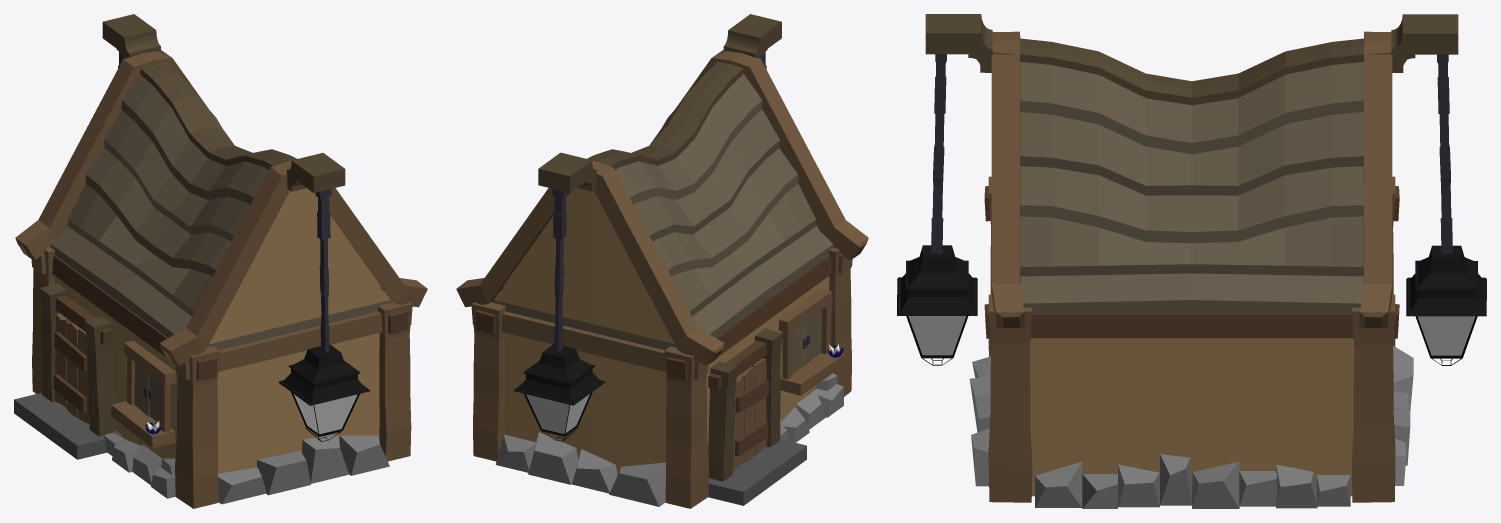
The model's file is casa3.0.fbx.
3 views of the same model, side by side, from view 1: azimuth 30°, elevation 25°; view 2: azimuth 150°, elevation 25°; view 3: azimuth 270°, elevation 25° (orthographic). The views are drawn at different scales.
Visible parts, largest first — view 1: casa.002, pedras.002, negocinho feio.002, madeira porta.002, janela.006, porta.002, negocinho feio.025, porta.010, negocinho feio.024; view 2: casa.002, pedras.002, negocinho feio.002, janela.006, madeira porta.002, porta.002, negocinho feio.025, porta.010, negocinho feio.024; view 3: casa.002, pedras.002, negocinho feio.002, negocinho feio.025, negocinho feio.024.
Part boxes in pixels (x1,y1,x2,y2): casa.002: [15, 50, 427, 508]; pedras.002: [104, 432, 389, 504]; negocinho feio.002: [102, 14, 345, 352]; madeira porta.002: [40, 283, 114, 436]; janela.006: [111, 340, 176, 447]; porta.002: [14, 295, 121, 459]; negocinho feio.025: [278, 344, 370, 405]; porta.010: [53, 313, 89, 423]; negocinho feio.024: [294, 394, 357, 434]; casa.002: [456, 50, 868, 508]; pedras.002: [495, 373, 843, 506]; negocinho feio.002: [538, 14, 781, 352]; janela.006: [778, 288, 845, 395]; madeira porta.002: [708, 328, 782, 481]; porta.002: [708, 340, 806, 505]; negocinho feio.025: [513, 344, 605, 405]; porta.010: [732, 358, 768, 471]; negocinho feio.024: [526, 394, 589, 434]; casa.002: [984, 31, 1399, 502]; pedras.002: [969, 345, 1413, 508]; negocinho feio.002: [925, 14, 1458, 253]; negocinho feio.025: [897, 245, 1486, 316]; negocinho feio.024: [908, 316, 1475, 355].
Bounding box in the file's own units: 3132 × 3593 × 4638.
